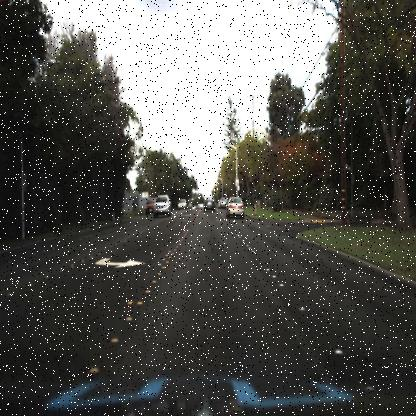car: (226, 193, 244, 220), (152, 193, 173, 216), (203, 194, 215, 215), (144, 198, 154, 214), (217, 195, 227, 209)
